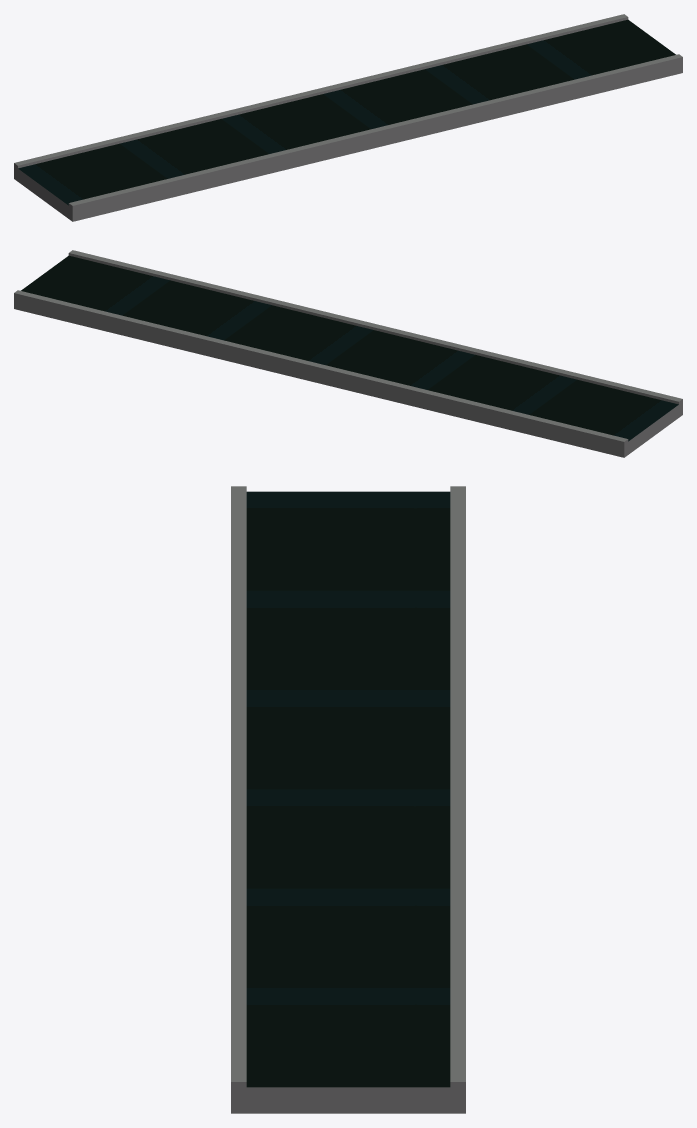
Rendered from RoadTileLong.glb.
3 views of the same model, one above another, from view 1: azimuth 30°, elevation 25°; view 2: azimuth 150°, elevation 25°; view 3: azimuth 270°, elevation 25° (orthographic). The views are drawn at different scales.
Parts seen in each view (by area): view 1: Road Tile; view 2: Road Tile; view 3: Road Tile.
Boxes of the visible parts, x1=… form: Road Tile: x1=14, y1=14, x2=682, y2=221; Road Tile: x1=14, y1=250, x2=682, y2=457; Road Tile: x1=231, y1=486, x2=465, y2=1113.
Size of the model in its own units: 48 by 1.2 by 8.
1 material, 1 textured.
